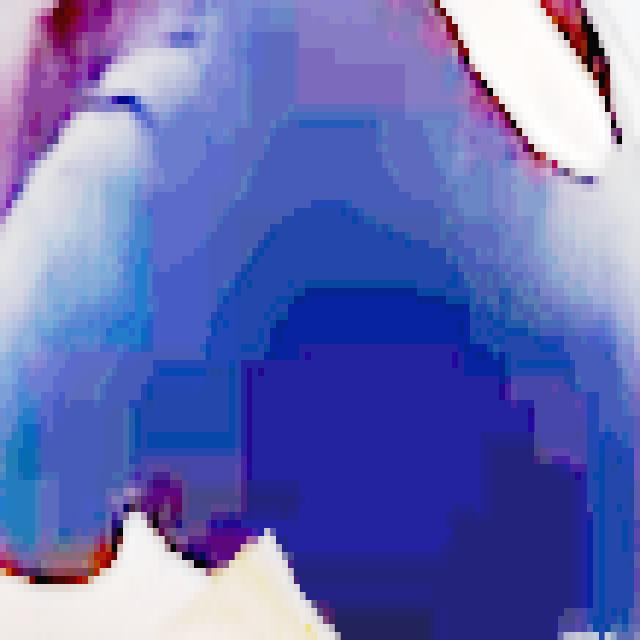arms: (223, 552, 640, 640)
